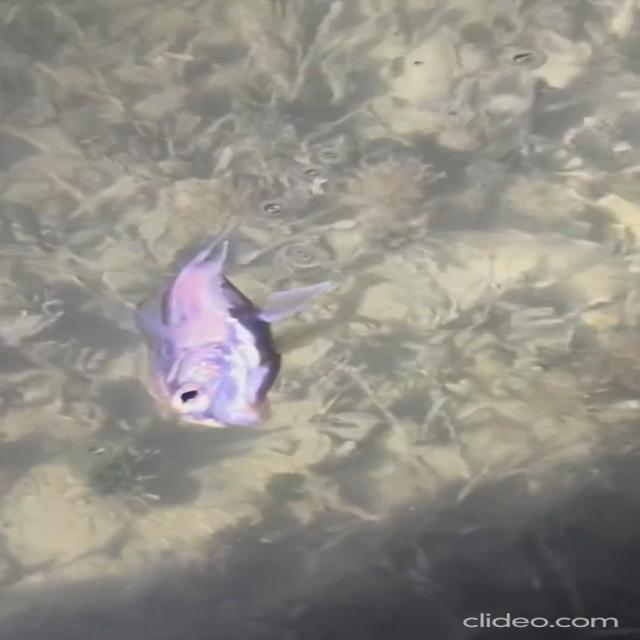fish: (145, 208, 295, 445)
